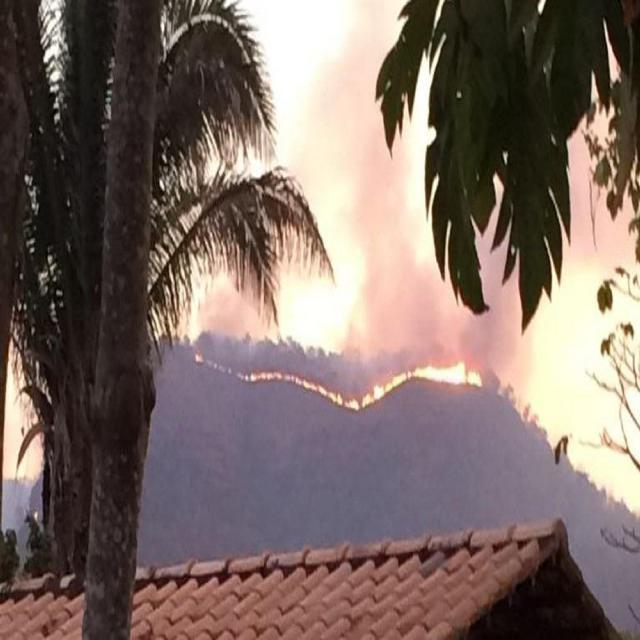Fire: (186, 324, 488, 426)
